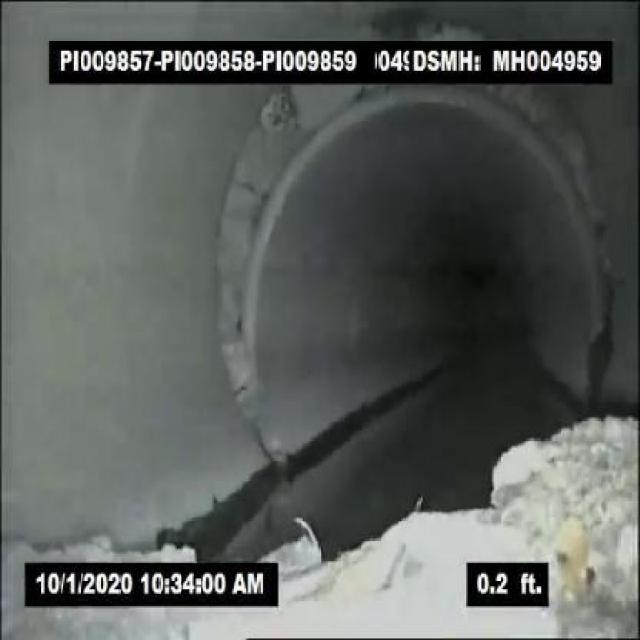Debris: (491, 414, 638, 637)
Joint offset: (198, 186, 284, 408), (230, 85, 378, 180), (496, 88, 606, 209)
